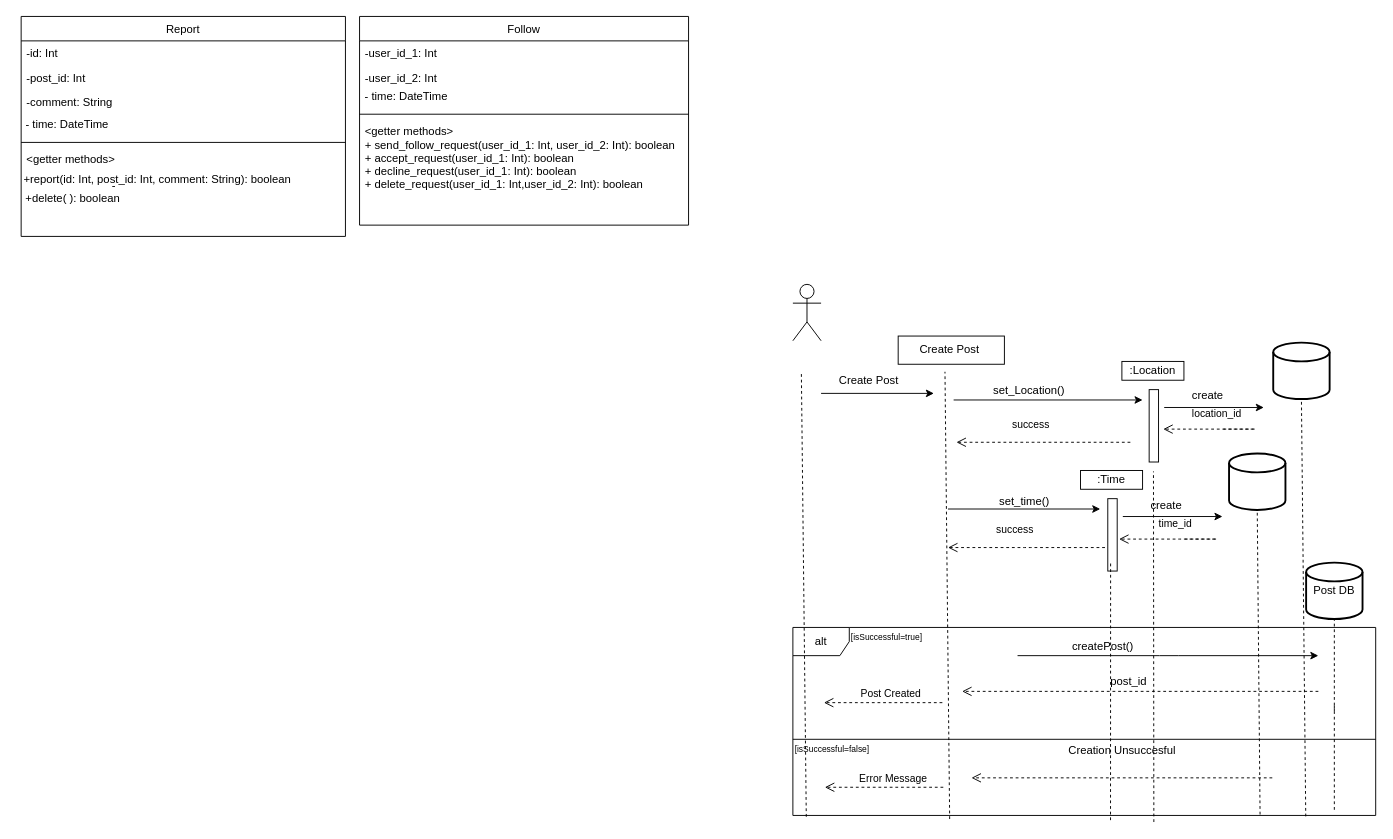
Image size: 1393x839. Some labels were removed from this diagram. The centre of each missing label's shape, as x and y in pixels:
Location DB: the point at 1301,370
Time DB: the point at 1257,481
User: the point at 806,312
